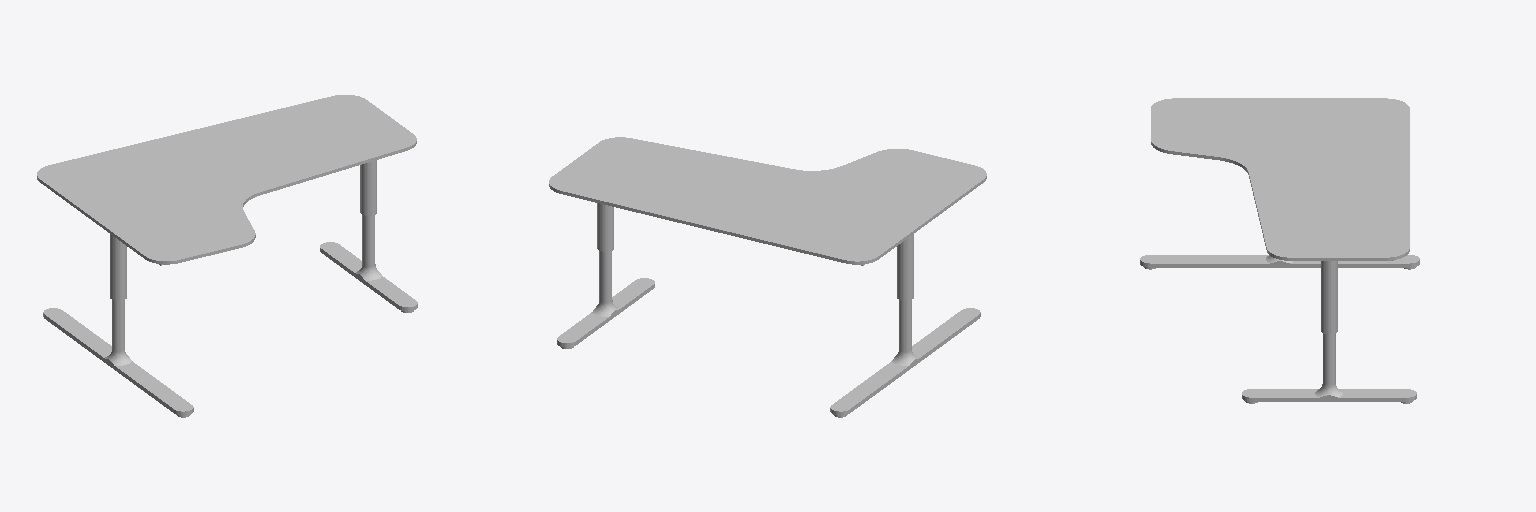
The model's file is Desk.obj.
3 renders of one model, left to right at view 1: azimuth 30°, elevation 25°; view 2: azimuth 150°, elevation 25°; view 3: azimuth 270°, elevation 25°, orthographic.
Size of the model in its own units: 1600 by 730 by 1188.